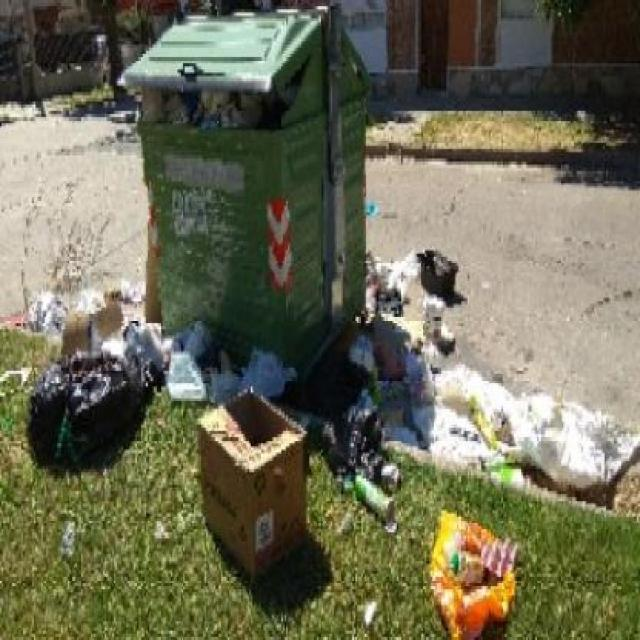garbage: (177, 320, 316, 564), (9, 292, 170, 444), (466, 368, 632, 492), (320, 342, 398, 526), (433, 509, 513, 633), (126, 77, 279, 134), (362, 251, 438, 334), (443, 257, 462, 453), (362, 191, 386, 222)
